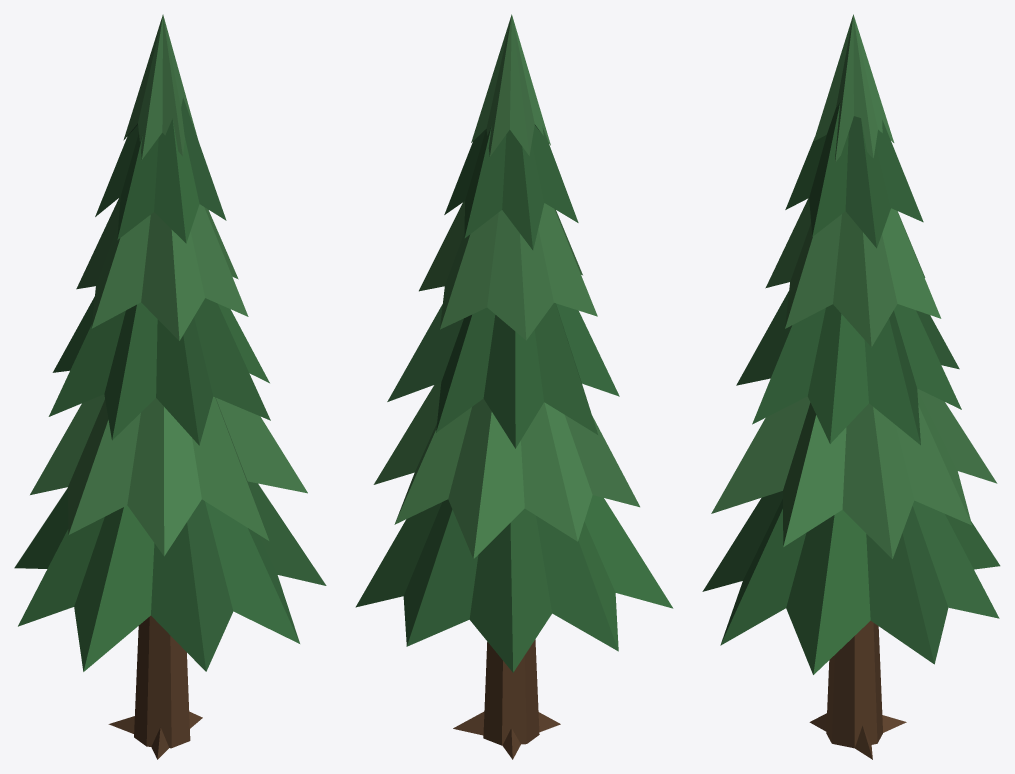
File: pine_b.glb
3 renders of one model, left to right at view 1: azimuth 30°, elevation 25°; view 2: azimuth 150°, elevation 25°; view 3: azimuth 270°, elevation 25°, orthographic.
Visible parts, largest first — view 1: pine_b; view 2: pine_b; view 3: pine_b.
Boxes of the visible parts, x1,y1,x2,y2 form: pine_b: (14,14,326,759); pine_b: (355,14,673,759); pine_b: (702,14,1000,759).
Size of the model in its own units: 2.35 by 6 by 2.25.
1 material, 1 textured.
